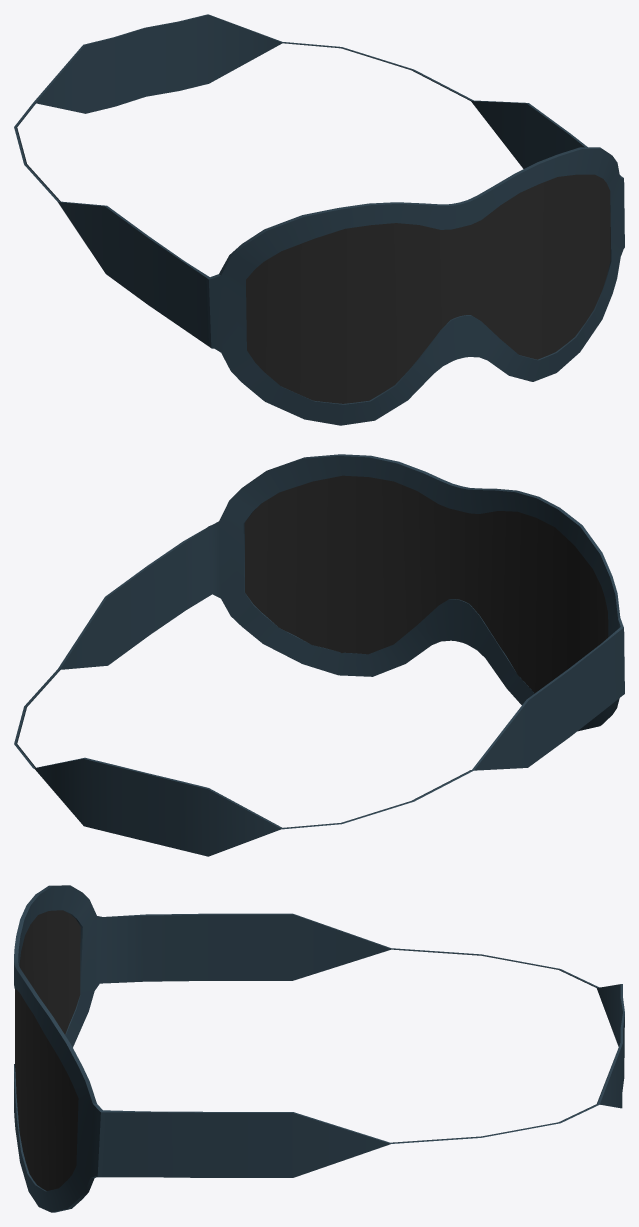
Rendered from sport.glb.
3 views of the same model, one above another, from view 1: azimuth 30°, elevation 25°; view 2: azimuth 150°, elevation 25°; view 3: azimuth 270°, elevation 25° (orthographic). The views are drawn at different scales.
Parts seen in each view (by area): view 1: glasses25.001; view 2: glasses25.001; view 3: glasses25.001.
Part boxes in pixels (box(x1,y1,x2,y2)): glasses25.001: box(14, 14, 624, 425); glasses25.001: box(14, 454, 624, 856); glasses25.001: box(14, 885, 624, 1212).
Size of the model in its own units: 2.03 by 1.01 by 2.63.
